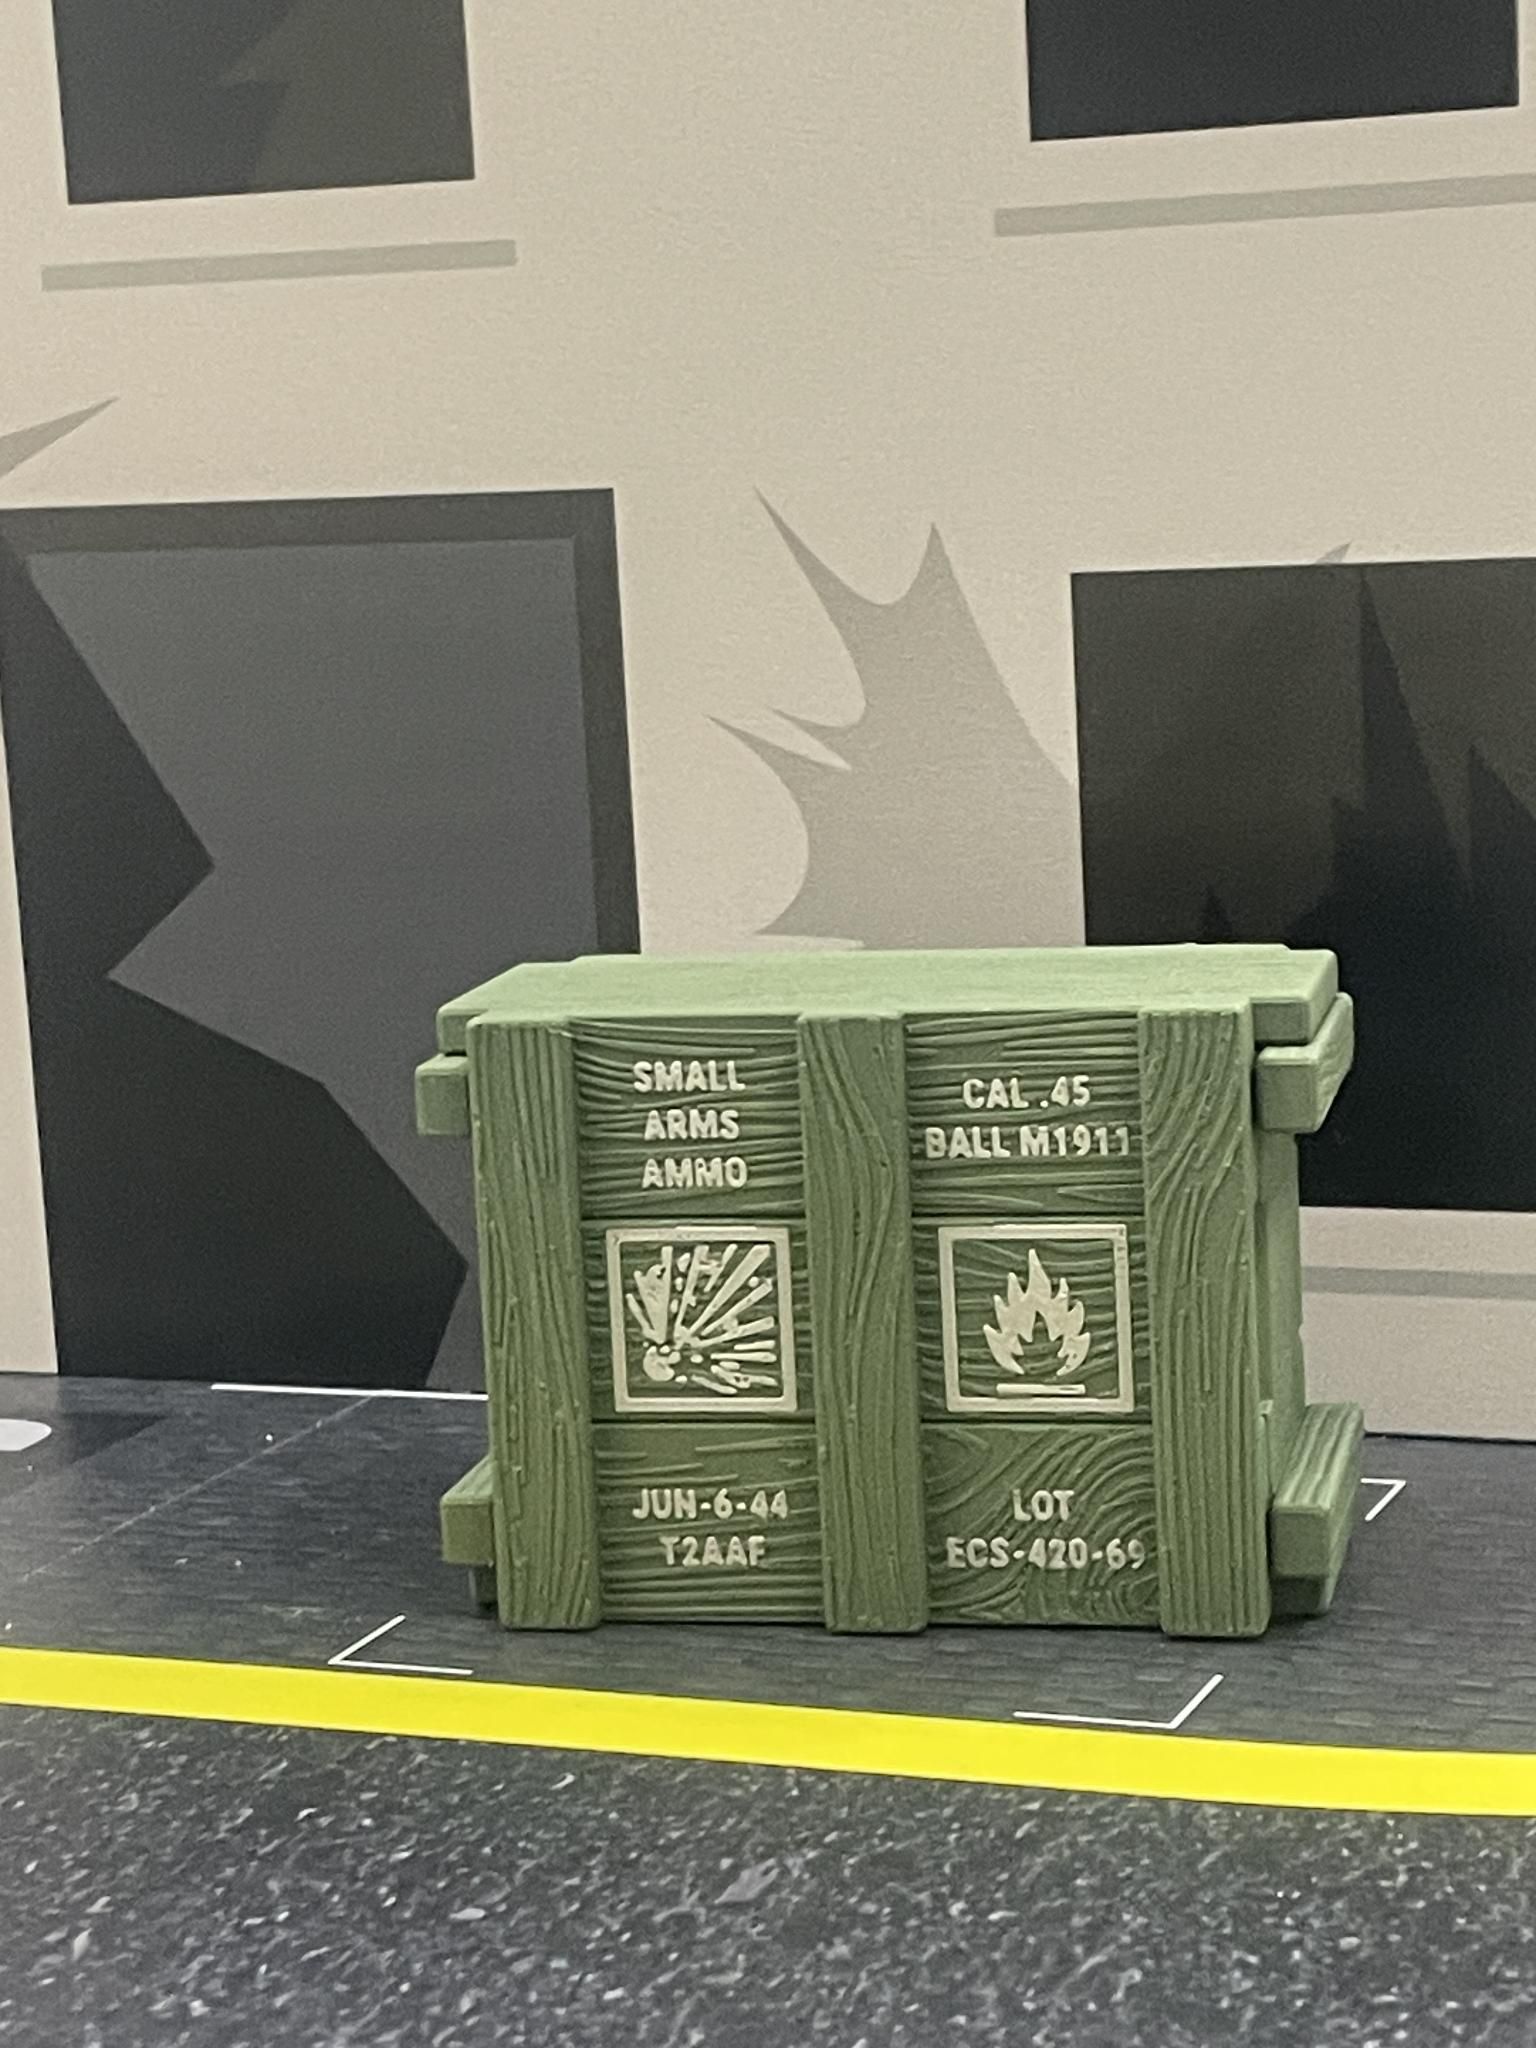Box: (402, 937, 1379, 1651)
